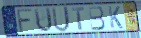B: (88, 5, 107, 31)
F: (16, 9, 34, 34)
K: (107, 5, 124, 29)
T: (71, 7, 86, 31)
U: (51, 6, 71, 33), (33, 7, 53, 33)
